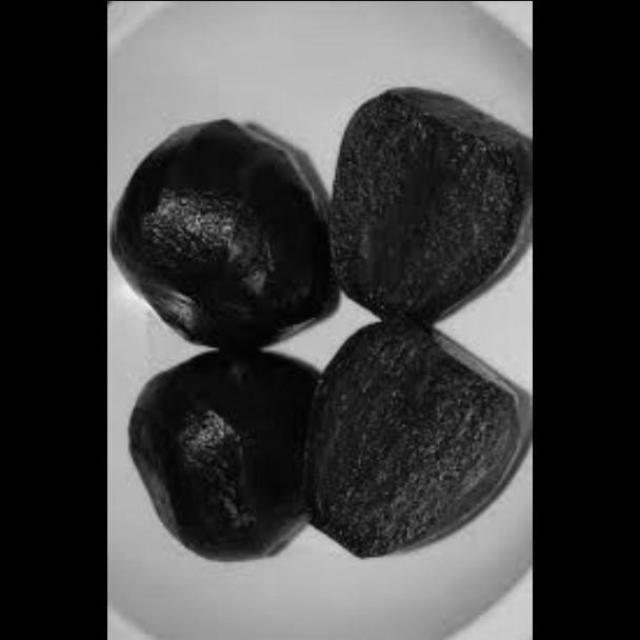sugar beet: (304, 321, 528, 572), (106, 115, 342, 340), (322, 78, 531, 320), (116, 348, 339, 574)
